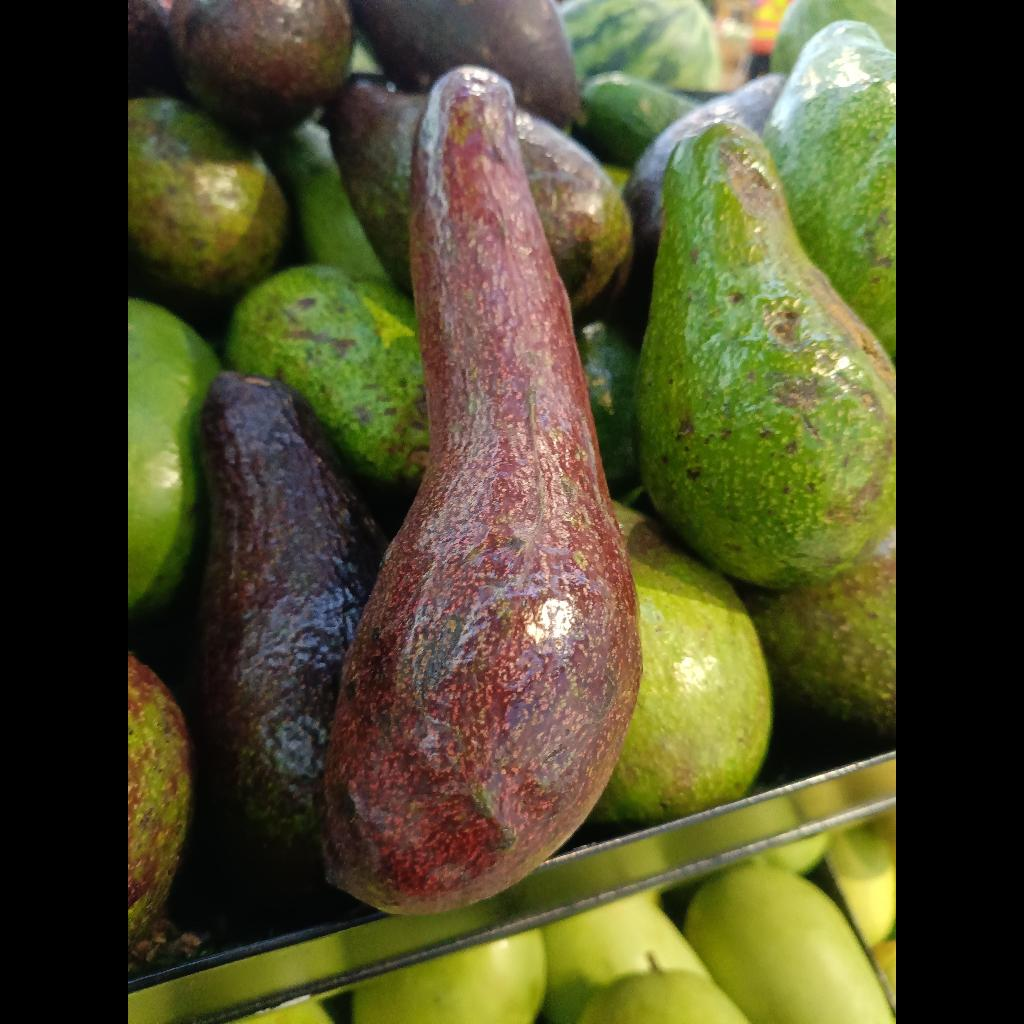antracnosis_fruto: (324, 67, 640, 914), (635, 123, 896, 589), (192, 372, 385, 900)
